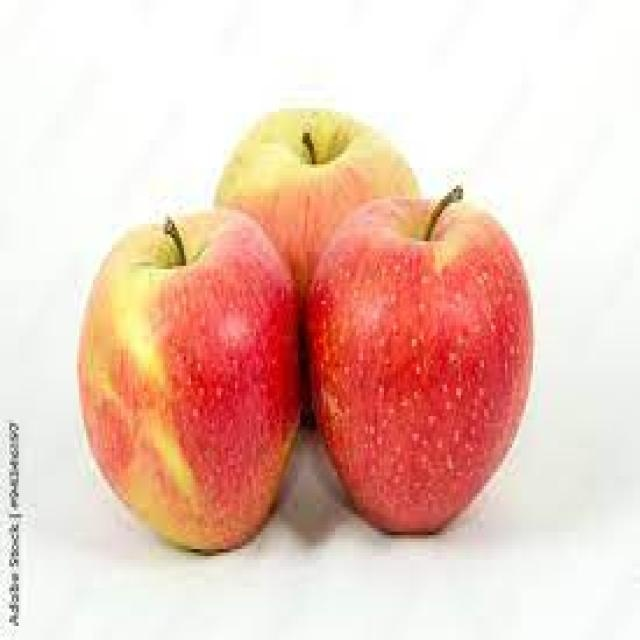agrume: (51, 181, 321, 570), (302, 142, 526, 530), (197, 81, 423, 459)
